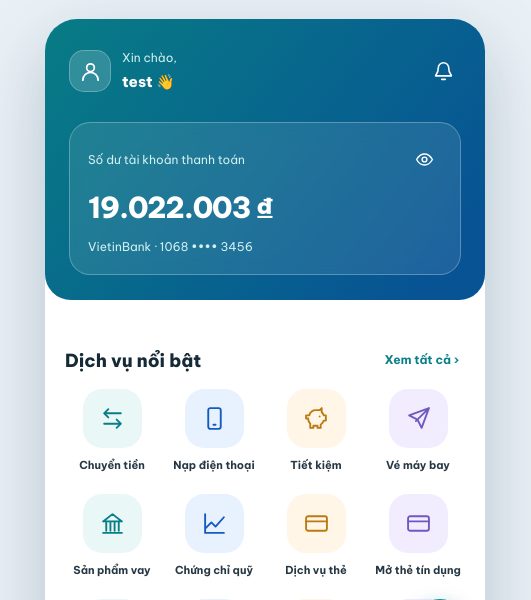
Test: opens service fund and completes a demo action
The width and height of the screenshot is (531, 600).
Click the button "Chứng chỉ quỹ" at (214, 536), box [167, 494, 261, 579]
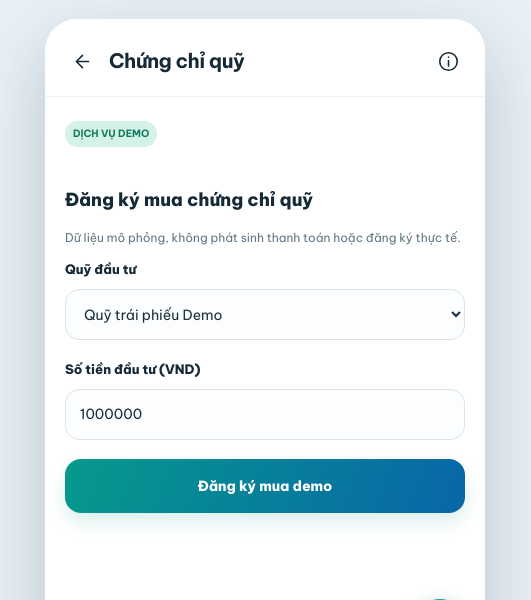
Now the text "DỊCH VỤ DEMO" is shown, box [65, 121, 157, 147]
Click the button "Đăng ký mua demo" at (265, 486), box [65, 459, 465, 513]
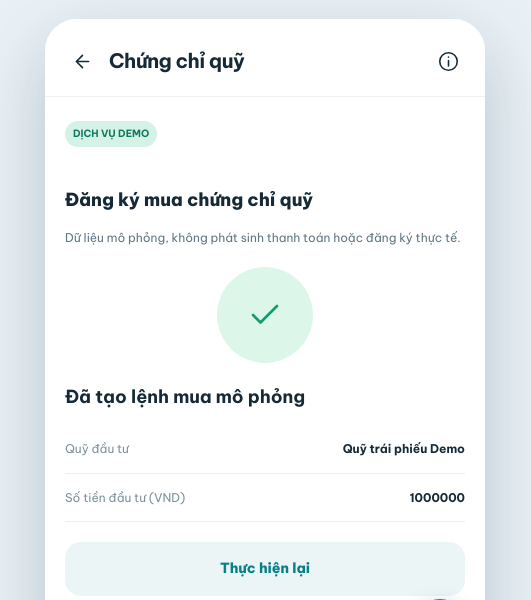
Now the message shows "Đã tạo lệnh mua mô phỏng", box [65, 385, 305, 408]
Click the button "Thực hiện lại" at (265, 569), box [65, 542, 465, 596]
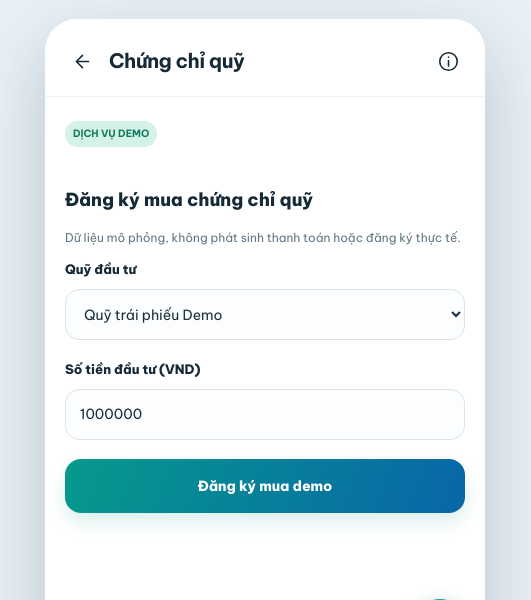
Now the button "Đăng ký mua demo" is shown, box [65, 459, 465, 513]
